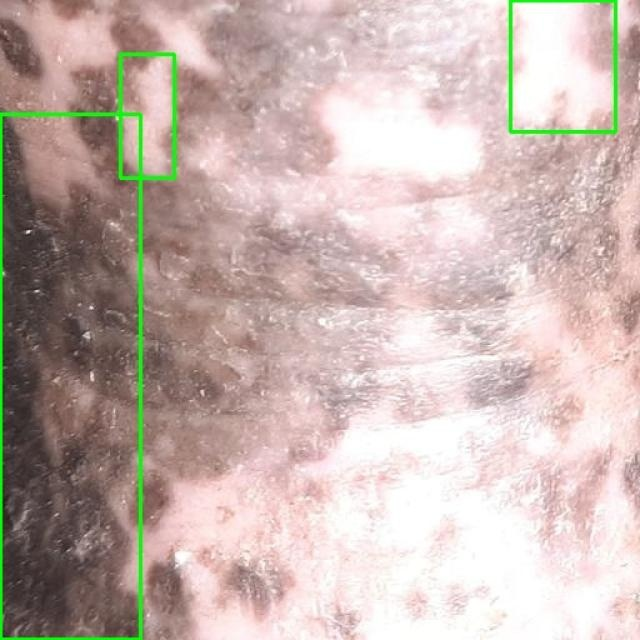Eczema: (0, 114, 140, 639), (510, 0, 615, 131), (120, 54, 174, 178)
